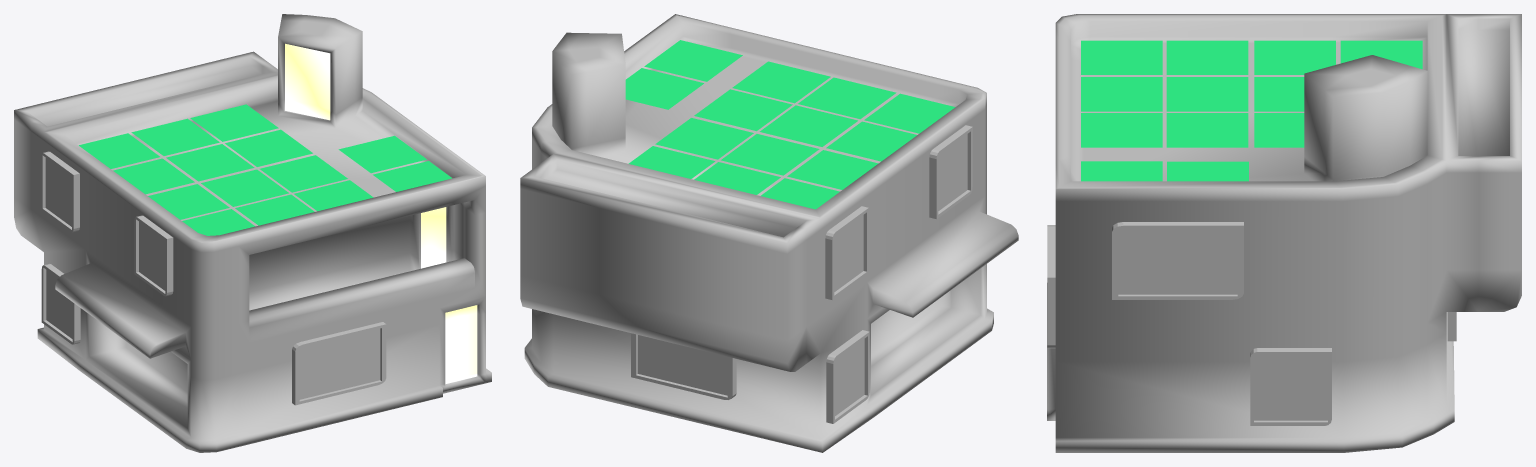
Rendered from sm_farmingshort_building_04.gltf.
The picture shows the model from 3 angles, left to right: view 1: azimuth 30°, elevation 25°; view 2: azimuth 150°, elevation 25°; view 3: azimuth 270°, elevation 25°; orthographic projection. The views are drawn at different scales.
Visible parts, largest first — view 1: SM_Building_FarmingShort_01, SM_Windows, SM_Windows.001, SM_Windows.003, SM_Windows.002, GridSpace7.001, GridSpace7.008, GridSpace8.001, GridSpace7.002, GridSpace7.005, GridSpace7.007, GridSpace7.004 (+7 smaller); view 2: SM_Building_FarmingShort_01, SM_Windows.004, SM_Windows.003, SM_Windows.002, SM_Windows.001, GridSpace7.007, GridSpace7.005, GridSpace7.011, GridSpace3.001, GridSpace7.010, GridSpace7.004, GridSpace7.008 (+7 smaller); view 3: SM_Building_FarmingShort_01, SM_Windows.006, SM_Windows.005, GridSpace7.007, GridSpace7.008, GridSpace7.009, GridSpace7.010, GridSpace7.011, GridSpace7.012, GridSpace7.006, GridSpace7.004, GridSpace7.005 (+4 smaller).
Part boxes in pixels (left/top/right/bottom): SM_Building_FarmingShort_01: left=14, top=14, right=491, bottom=452; SM_Windows: left=292, top=322, right=386, bottom=405; SM_Windows.001: left=134, top=215, right=173, bottom=296; SM_Windows.003: left=41, top=151, right=79, bottom=232; SM_Windows.002: left=41, top=263, right=80, bottom=344; GridSpace7.001: left=190, top=104, right=278, bottom=141; GridSpace7.008: left=201, top=169, right=288, bottom=206; GridSpace8.001: left=338, top=135, right=426, bottom=173; GridSpace7.002: left=131, top=118, right=219, bottom=155; GridSpace7.005: left=166, top=144, right=254, bottom=181; GridSpace7.007: left=260, top=155, right=347, bottom=192; GridSpace7.004: left=225, top=129, right=312, bottom=166; SM_Building_FarmingShort_01: left=520, top=14, right=1018, bottom=452; SM_Windows.004: left=631, top=333, right=736, bottom=399; SM_Windows.003: left=825, top=206, right=868, bottom=300; SM_Windows.002: left=826, top=330, right=869, bottom=423; SM_Windows.001: left=929, top=125, right=972, bottom=218; GridSpace7.007: left=694, top=89, right=792, bottom=131; GridSpace7.005: left=721, top=134, right=819, bottom=175; GridSpace7.011: left=798, top=77, right=896, bottom=119; GridSpace3.001: left=644, top=40, right=742, bottom=81; GridSpace7.010: left=732, top=61, right=830, bottom=103; GridSpace7.004: left=655, top=118, right=753, bottom=159; GridSpace7.008: left=759, top=105, right=857, bottom=146; SM_Building_FarmingShort_01: left=1047, top=14, right=1521, bottom=452; SM_Windows.006: left=1112, top=222, right=1243, bottom=299; SM_Windows.005: left=1250, top=348, right=1331, bottom=425; GridSpace7.007: left=1166, top=113, right=1248, bottom=147; GridSpace7.008: left=1166, top=77, right=1248, bottom=111; GridSpace7.009: left=1166, top=40, right=1248, bottom=74; GridSpace7.010: left=1081, top=113, right=1162, bottom=147; GridSpace7.011: left=1081, top=77, right=1162, bottom=111; GridSpace7.012: left=1081, top=40, right=1162, bottom=74; GridSpace7.006: left=1254, top=40, right=1335, bottom=74; GridSpace7.004: left=1254, top=113, right=1304, bottom=147; GridSpace7.005: left=1254, top=77, right=1304, bottom=111.
Size of what is drawn, in the model's own units: 11.68 by 9.3 by 11.61.
